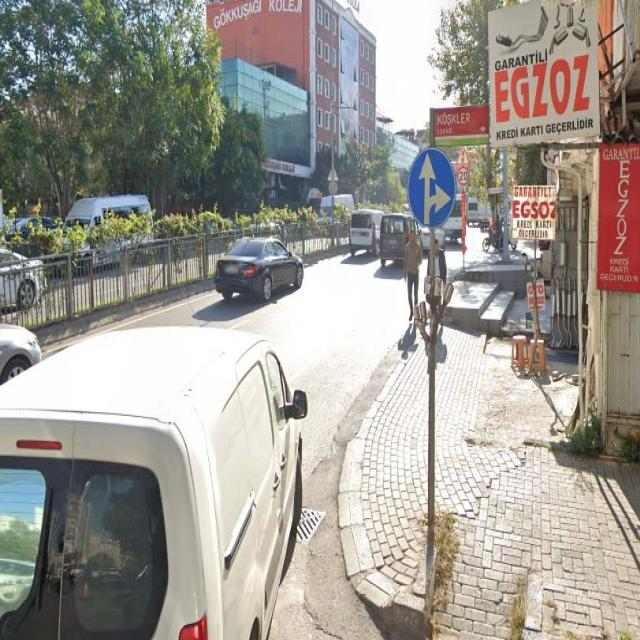20: (458, 167, 469, 187)
ilerisag: (408, 148, 456, 228)
